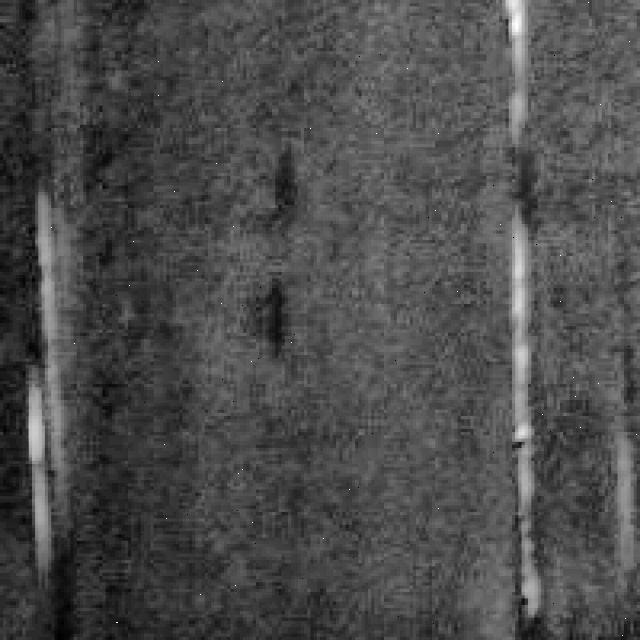Inclusion: (26, 192, 76, 573), (509, 214, 557, 596), (502, 0, 544, 131)
Patches: (259, 266, 307, 368)
